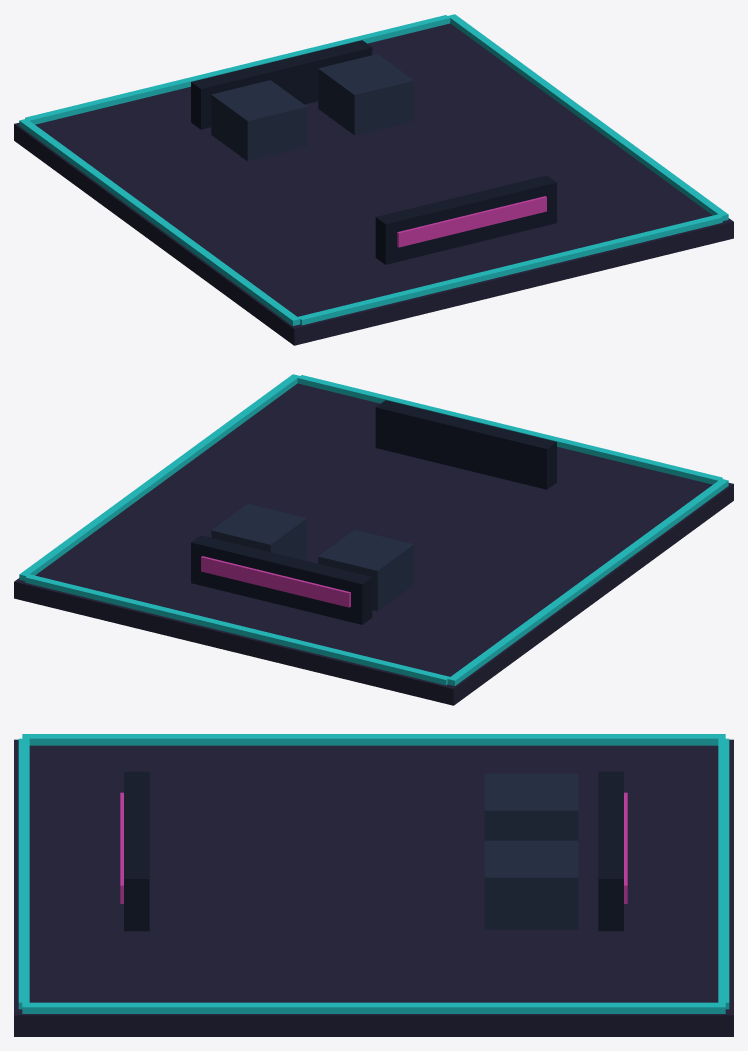
The model's file is Neon_ArcadeRoof_Showcase.glb.
The picture shows the model from 3 angles, top to bottom: view 1: azimuth 30°, elevation 25°; view 2: azimuth 150°, elevation 25°; view 3: azimuth 270°, elevation 25°; orthographic projection. The views are drawn at different scales.
Parts seen in each view (by area): view 1: Neon_ArcadeRoof_Showcase; view 2: Neon_ArcadeRoof_Showcase; view 3: Neon_ArcadeRoof_Showcase.
Boxes of the visible parts, bbox=[...] form: Neon_ArcadeRoof_Showcase: bbox=[14, 14, 733, 345]; Neon_ArcadeRoof_Showcase: bbox=[14, 374, 733, 705]; Neon_ArcadeRoof_Showcase: bbox=[14, 734, 733, 1036].
Bounding box in the file's own units: 7.7 × 0.96 × 8.5.
